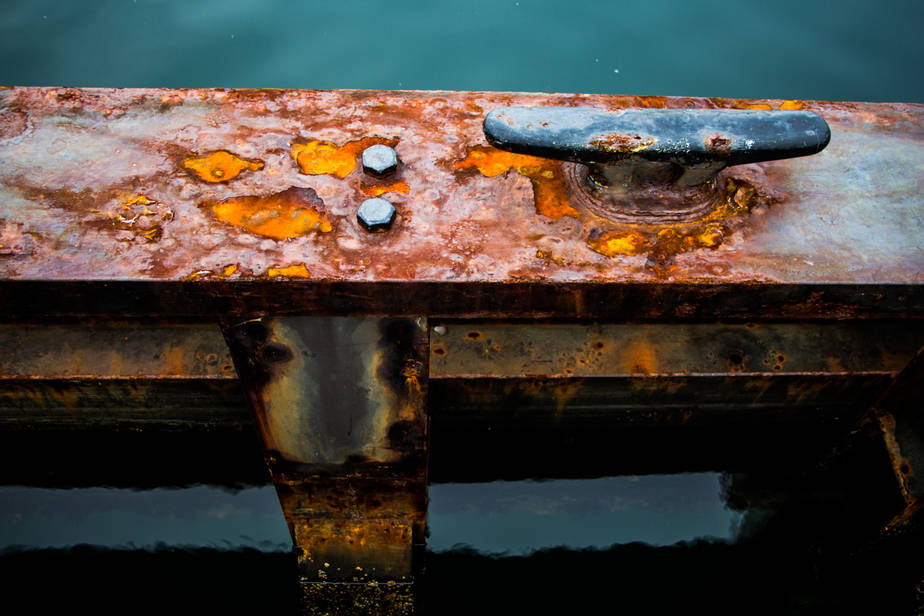rust: (17, 87, 357, 247), (454, 92, 770, 261)
